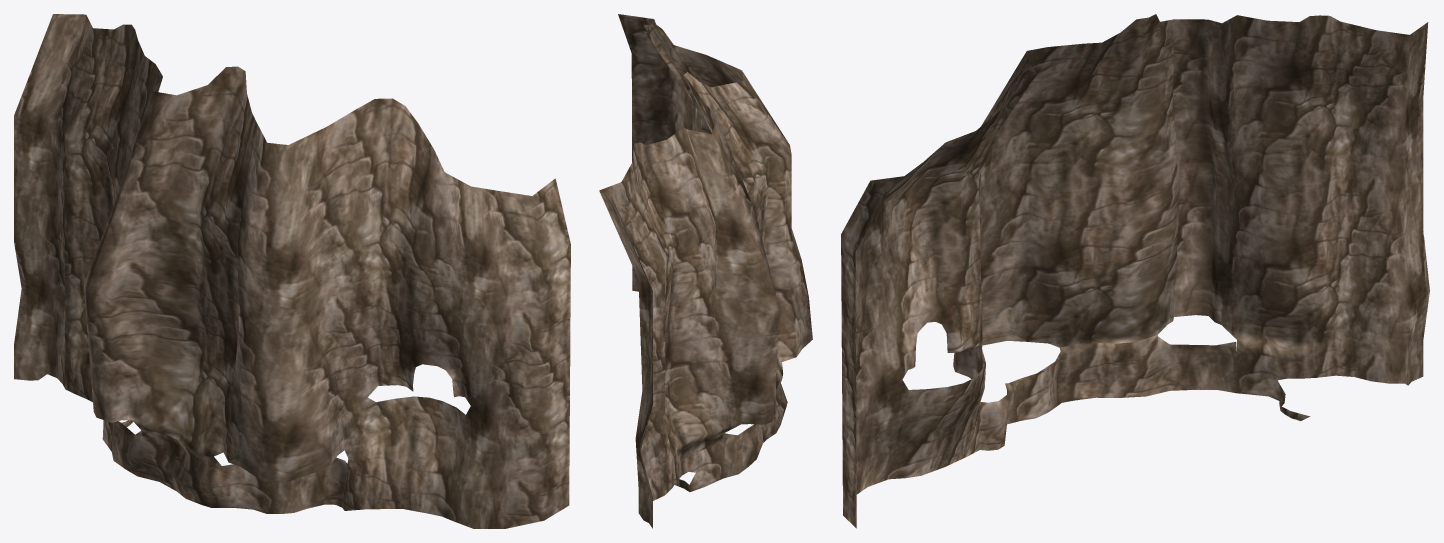
File: EKH_ENTRANCE_PS_EN_WALL_006.fbx
3 renders of one model, left to right at view 1: azimuth 30°, elevation 25°; view 2: azimuth 150°, elevation 25°; view 3: azimuth 270°, elevation 25°, orthographic. The views are drawn at different scales.
Visible parts, largest first — view 1: EKH_ENTRANCE_PS_EN_WALL_006; view 2: EKH_ENTRANCE_PS_EN_WALL_006; view 3: EKH_ENTRANCE_PS_EN_WALL_006.
Boxes of the visible parts, x1=… form: EKH_ENTRANCE_PS_EN_WALL_006: x1=14, y1=14, x2=570, y2=528; EKH_ENTRANCE_PS_EN_WALL_006: x1=599, y1=14, x2=812, y2=528; EKH_ENTRANCE_PS_EN_WALL_006: x1=841, y1=14, x2=1429, y2=528.
Bounding box in the file's own units: 168703 × 197457 × 249473.
1 material, 1 textured.
